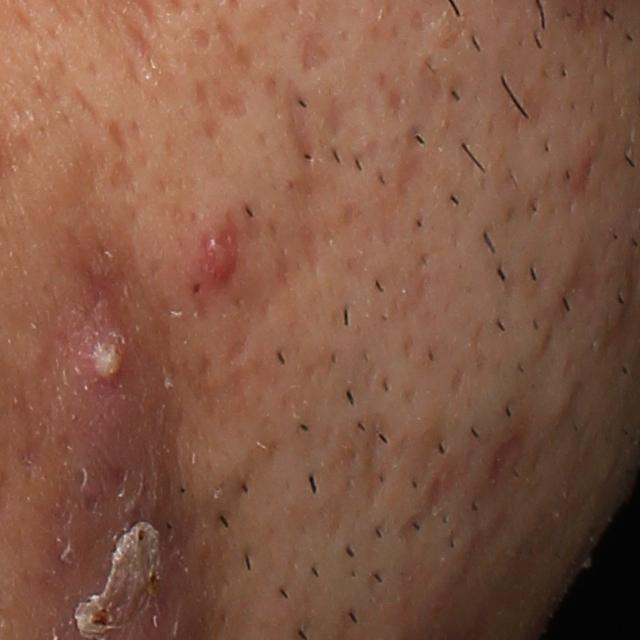atrophic_scar: (285, 77, 316, 169), (215, 18, 258, 74), (483, 429, 519, 494), (201, 75, 249, 119), (114, 11, 157, 57), (297, 29, 335, 74), (110, 155, 145, 195), (106, 120, 134, 157), (186, 24, 211, 55)
papule: (188, 227, 244, 298)
